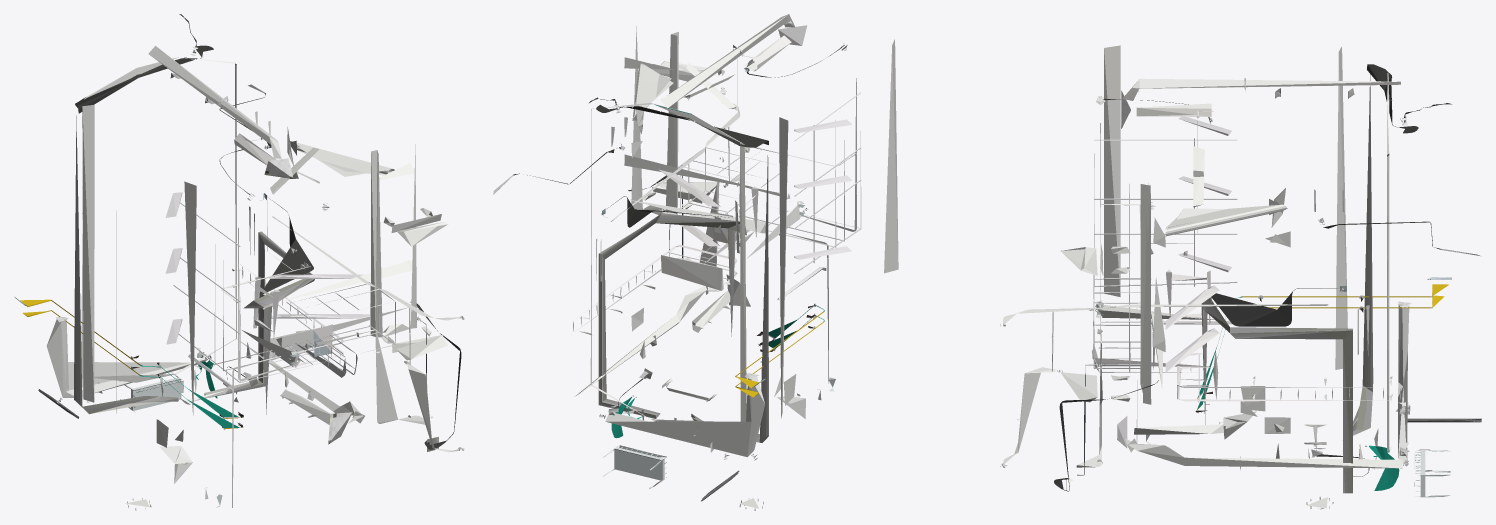
File: peijian110-geode.glb
3 views of the same model, side by side, from view 1: azimuth 30°, elevation 25°; view 2: azimuth 150°, elevation 25°; view 3: azimuth 270°, elevation 25° (orthographic). The views are drawn at different scales.
Visible parts, largest first — view 1: Node; view 2: Node; view 3: Node.
Part boxes in pixels (<box>): Node: <box>14,14,464,510</box>; Node: <box>493,14,901,510</box>; Node: <box>1000,45,1481,509</box>.
Bounding box in the file's own units: 7.28 × 9.14 × 8.74.
1 material, 1 textured.
